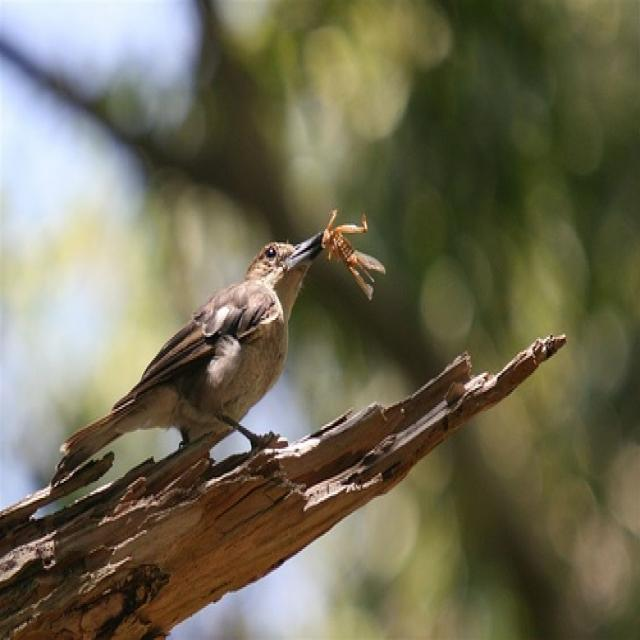bird: (50, 218, 330, 484)
